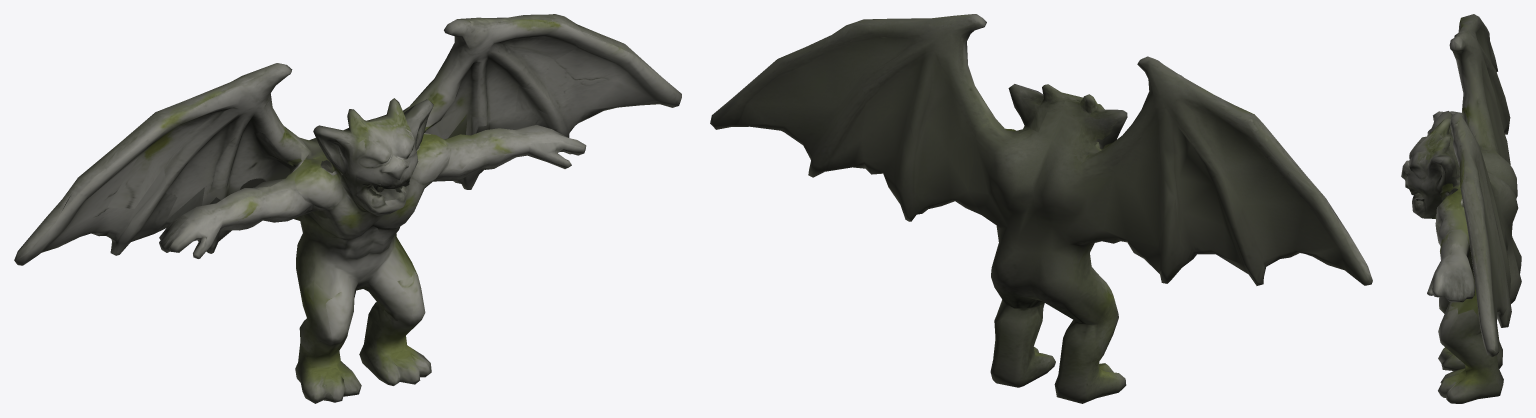
The picture shows the model from 3 angles, left to right: view 1: azimuth 30°, elevation 25°; view 2: azimuth 150°, elevation 25°; view 3: azimuth 270°, elevation 25°; orthographic projection. The views are drawn at different scales.
Visible parts, largest first — view 1: UE_Retopo_LOD2; view 2: UE_Retopo_LOD2; view 3: UE_Retopo_LOD2.
Part boxes in pixels (x1,y1,x2,y2): UE_Retopo_LOD2: (14,14,681,403); UE_Retopo_LOD2: (710,14,1372,403); UE_Retopo_LOD2: (1401,14,1521,403).
Bounding box in the file's own units: 4.77 × 2.37 × 0.8502.
